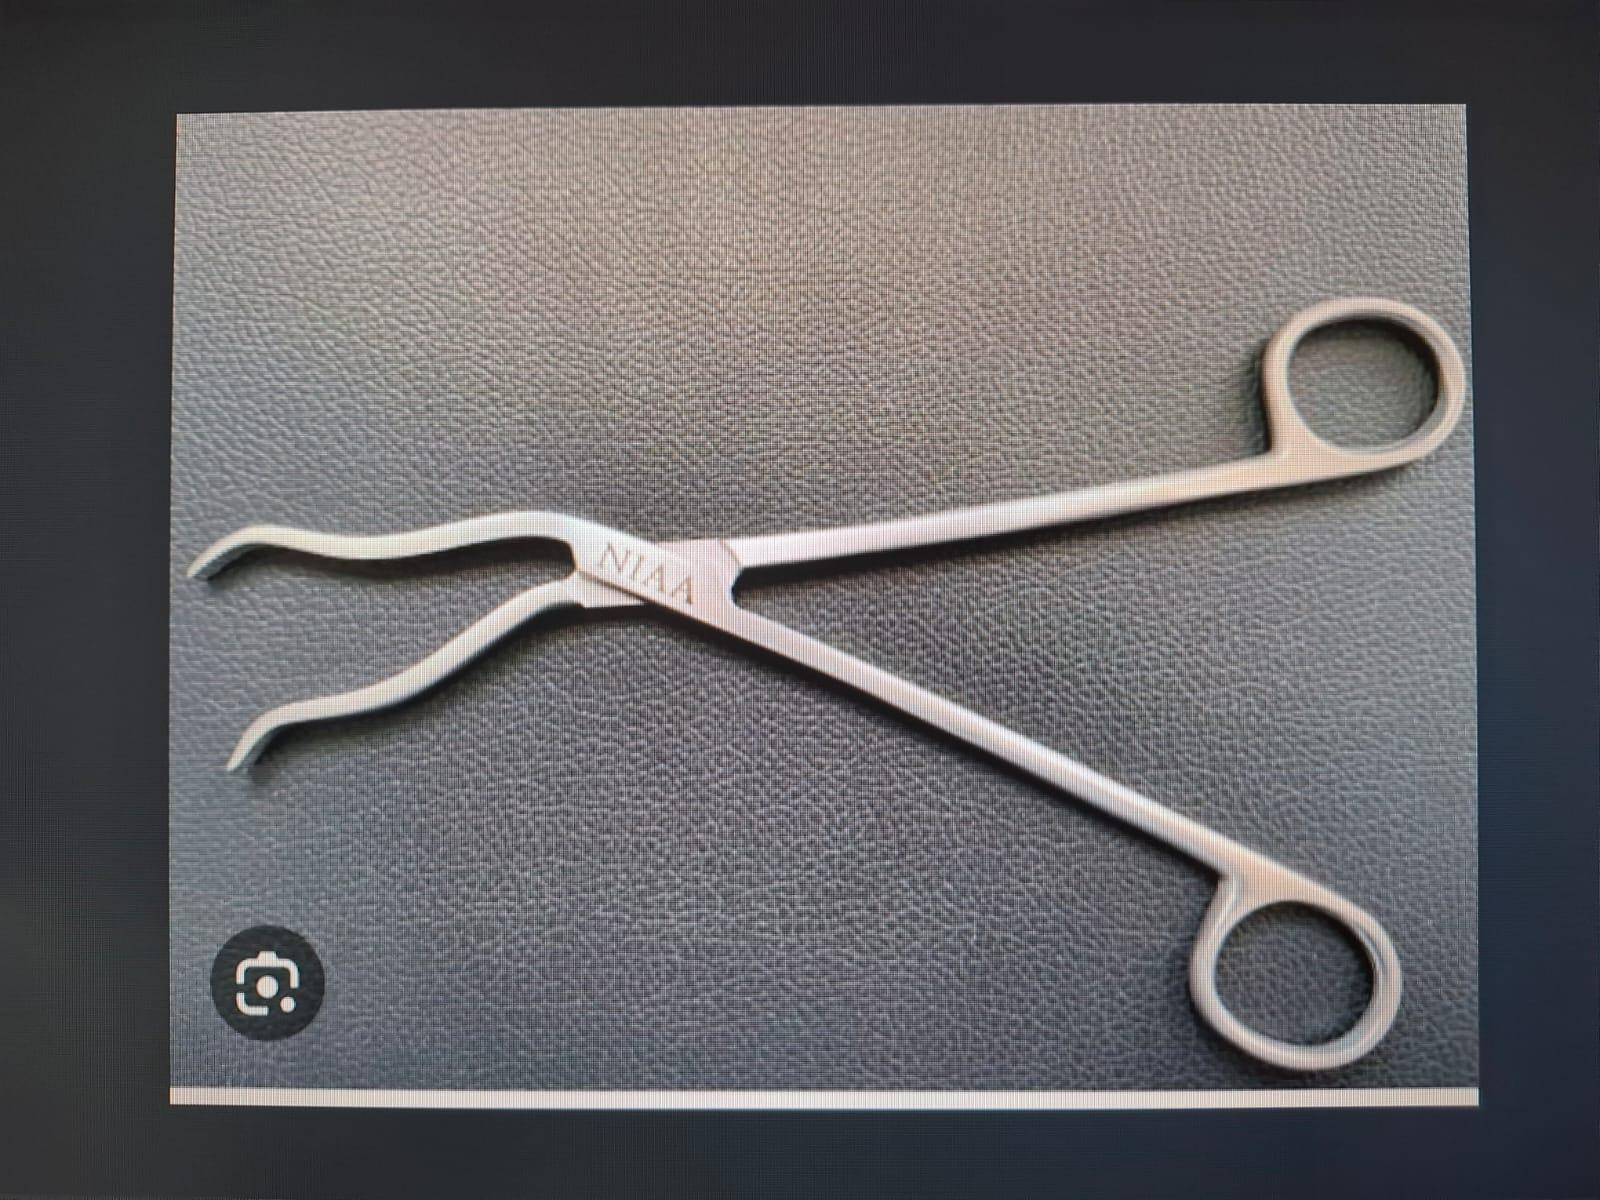Cheatle Forceps: (172, 282, 1460, 1080)
